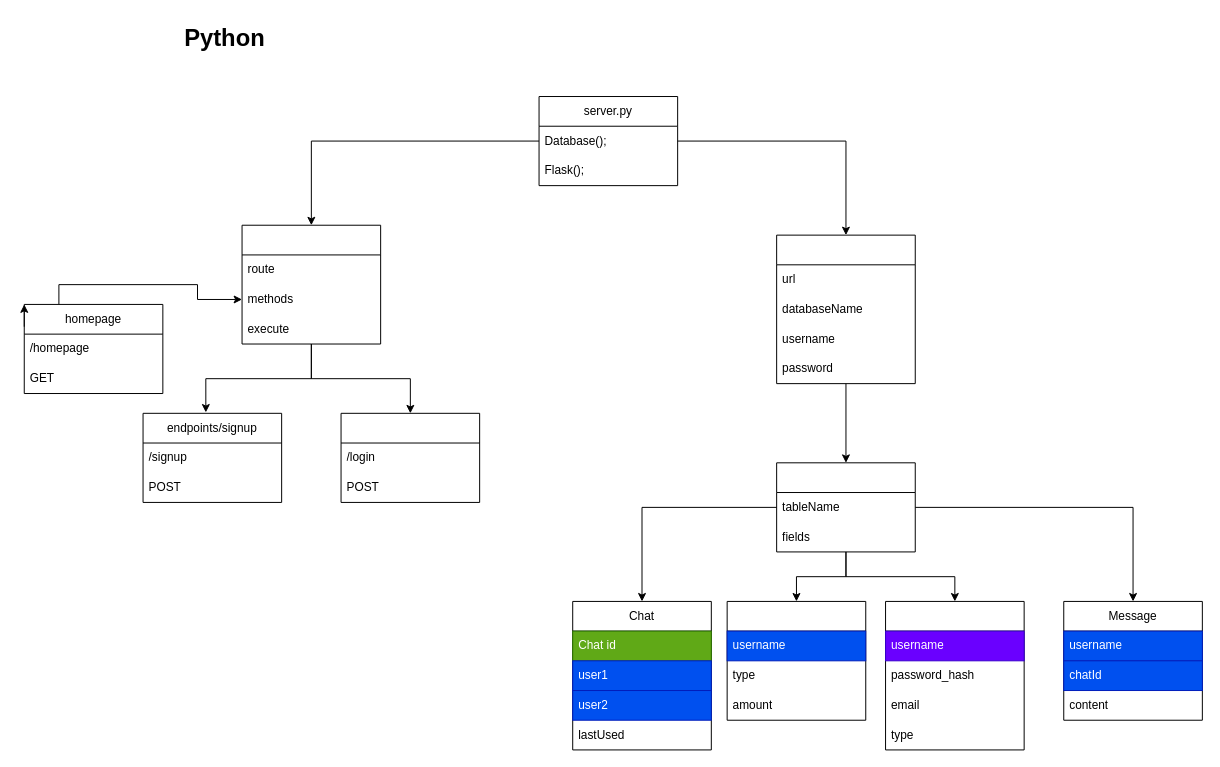
This 1220x767 diagram has some shape labels left out. Each missing label, with the box of its shape:
endpoints/Endpoint: (241, 224, 381, 344)
endpoints/login: (340, 412, 480, 502)
food: (726, 600, 866, 720)
SqlDatabase: (776, 234, 915, 384)
SqlTable: (776, 462, 915, 552)
users: (885, 600, 1024, 750)
